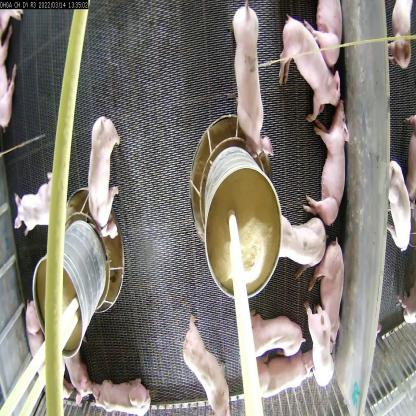Pig: (283, 15, 339, 125), (83, 102, 124, 243), (230, 4, 267, 146), (312, 109, 351, 234), (186, 313, 230, 415), (13, 170, 72, 243), (243, 304, 306, 358), (313, 242, 343, 349), (255, 351, 318, 400), (275, 209, 321, 270), (27, 304, 51, 404), (99, 368, 149, 415), (307, 304, 335, 387), (59, 348, 89, 396)
